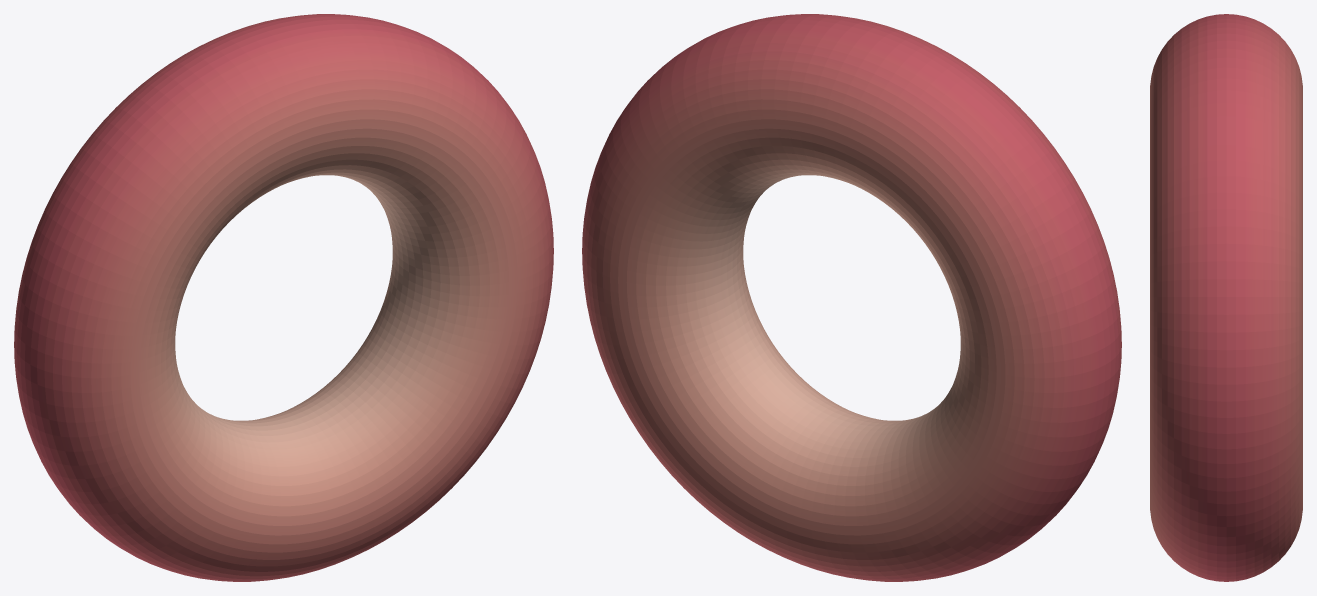
The picture shows the model from 3 angles, left to right: view 1: azimuth 30°, elevation 25°; view 2: azimuth 150°, elevation 25°; view 3: azimuth 270°, elevation 25°; orthographic projection. The views are drawn at different scales.
Parts seen in each view (by area): view 1: world; view 2: world; view 3: world.
Part boxes in pixels (x1,y1,x2,y2): world: [14, 14, 553, 581]; world: [582, 14, 1121, 581]; world: [1150, 14, 1302, 581].
Size of the model in its own units: 29.2 by 29.2 by 7.85.
